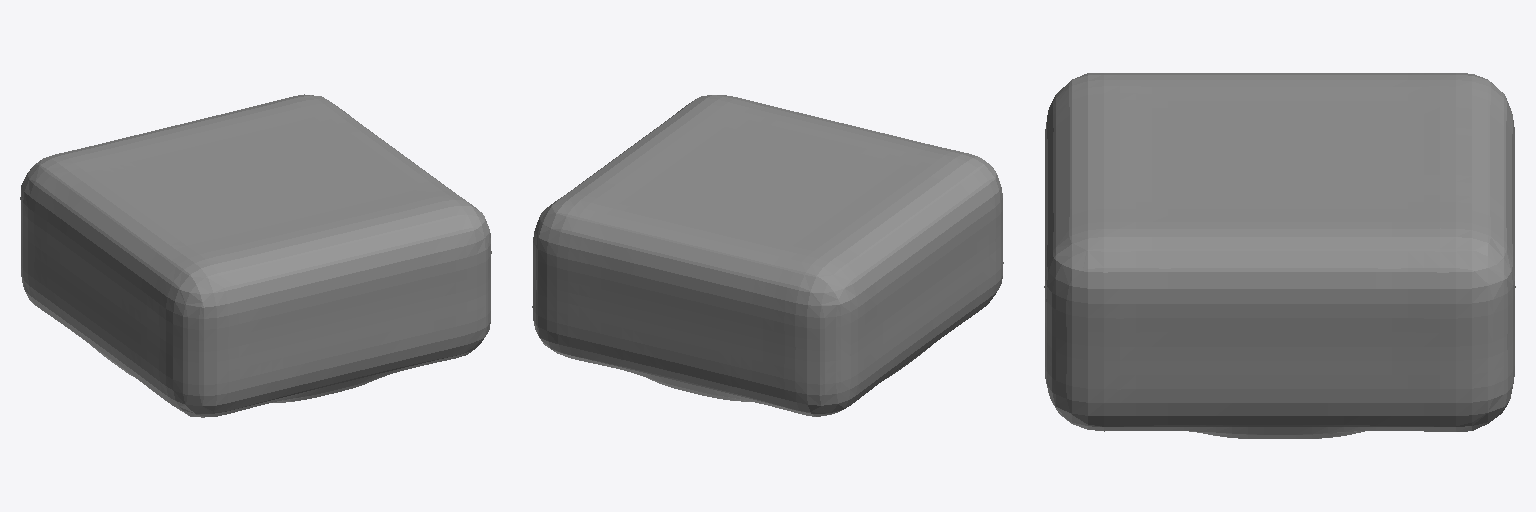
URDF robot description (cube.urdf):
<?xml version="0.0" ?> 
<robot name="cube.urdf"> 
<link name="legobrick"> 
<contact> 
<lateral_friction value="5.0"/> 
<rolling_friction value="0.0"/> 
<contact_cfm value="0.0"/> 
<contact_erp value="1.0"/> 
</contact> 
<inertial> 
<origin rpy="0 0 0" xyz="0.0 0.0 0.0"/> 
<mass value=".01"/> 
<inertia ixx="1" ixy="0" ixz="0" iyy="1" iyz="0" izz="1"/> 
</inertial> 
<visual> 
<origin rpy="1.570796 0 0" xyz="-0.02584786673746837 0.02584748261148768 -0.039907794359582235"/> 
<geometry> 
<mesh filename="Q02_0.obj" scale="0.0005600078339495892 0.0005600078339495892 0.0005600078339495892"/> 
</geometry> 
<material name="yellow"> 
<color rgba="0.6 0.6 0.6 1"/> 
</material> 
</visual> 
<collision> 
<origin rpy="1.570796 0 0" xyz="-0.02584786673746837 0.02584748261148768 -0.039907794359582235"/> 
<geometry> 
<mesh filename="Q02_0.obj" scale="0.0005600078339495892 0.0005600078339495892 0.0005600078339495892"/> 
</geometry> 
</collision> 
</link> 
</robot>

--- Facts derived from the render (not from the file) ---
Views: 3 orthographic renders of the robot side by side, from view 1: azimuth 30°, elevation 25°; view 2: azimuth 150°, elevation 25°; view 3: azimuth 270°, elevation 25°.
Robot: cube.urdf — 1 links, 0 joints (none); root link legobrick; default pose: every joint at zero.
Links seen in each view (by area): view 1: legobrick; view 2: legobrick; view 3: legobrick.
Link boxes in pixels (x1=…): legobrick: x1=20, y1=94, x2=491, y2=417; legobrick: x1=532, y1=95, x2=1003, y2=416; legobrick: x1=1044, y1=73, x2=1515, y2=438.
Bounding box of the posed robot: 0.056 × 0.056 × 0.0302 m (x, y, z).
Meshes: 1 distinct files referenced, 1 mesh visuals loaded (1 OBJ).
